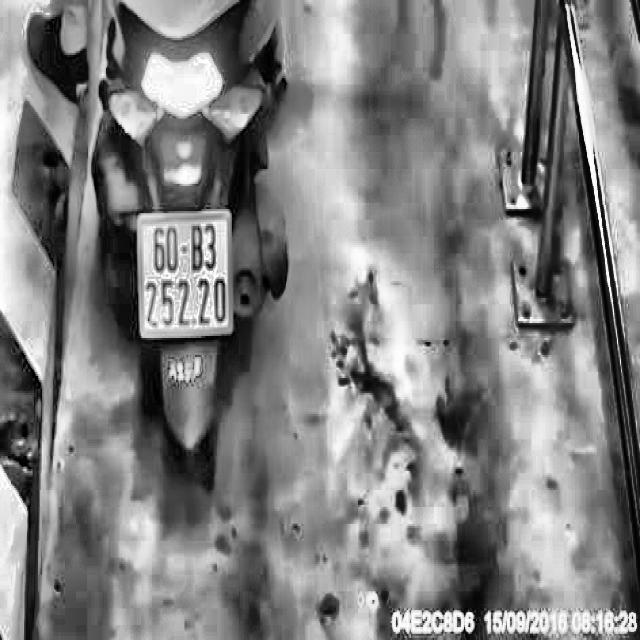plate: (135, 203, 236, 340)
